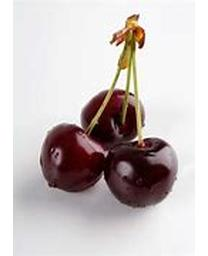cherry: (104, 138, 178, 209), (40, 122, 105, 193), (79, 89, 145, 148)
